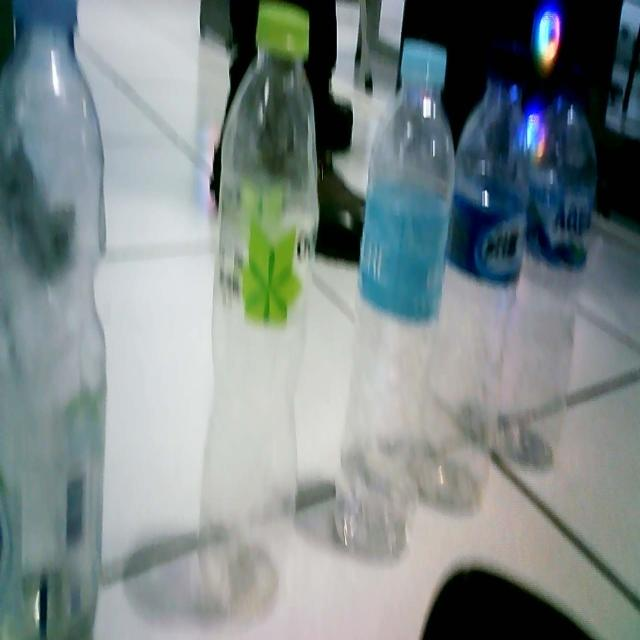botol: (199, 4, 322, 627), (1, 1, 107, 638), (333, 38, 456, 568), (411, 32, 529, 525), (491, 21, 598, 471)
